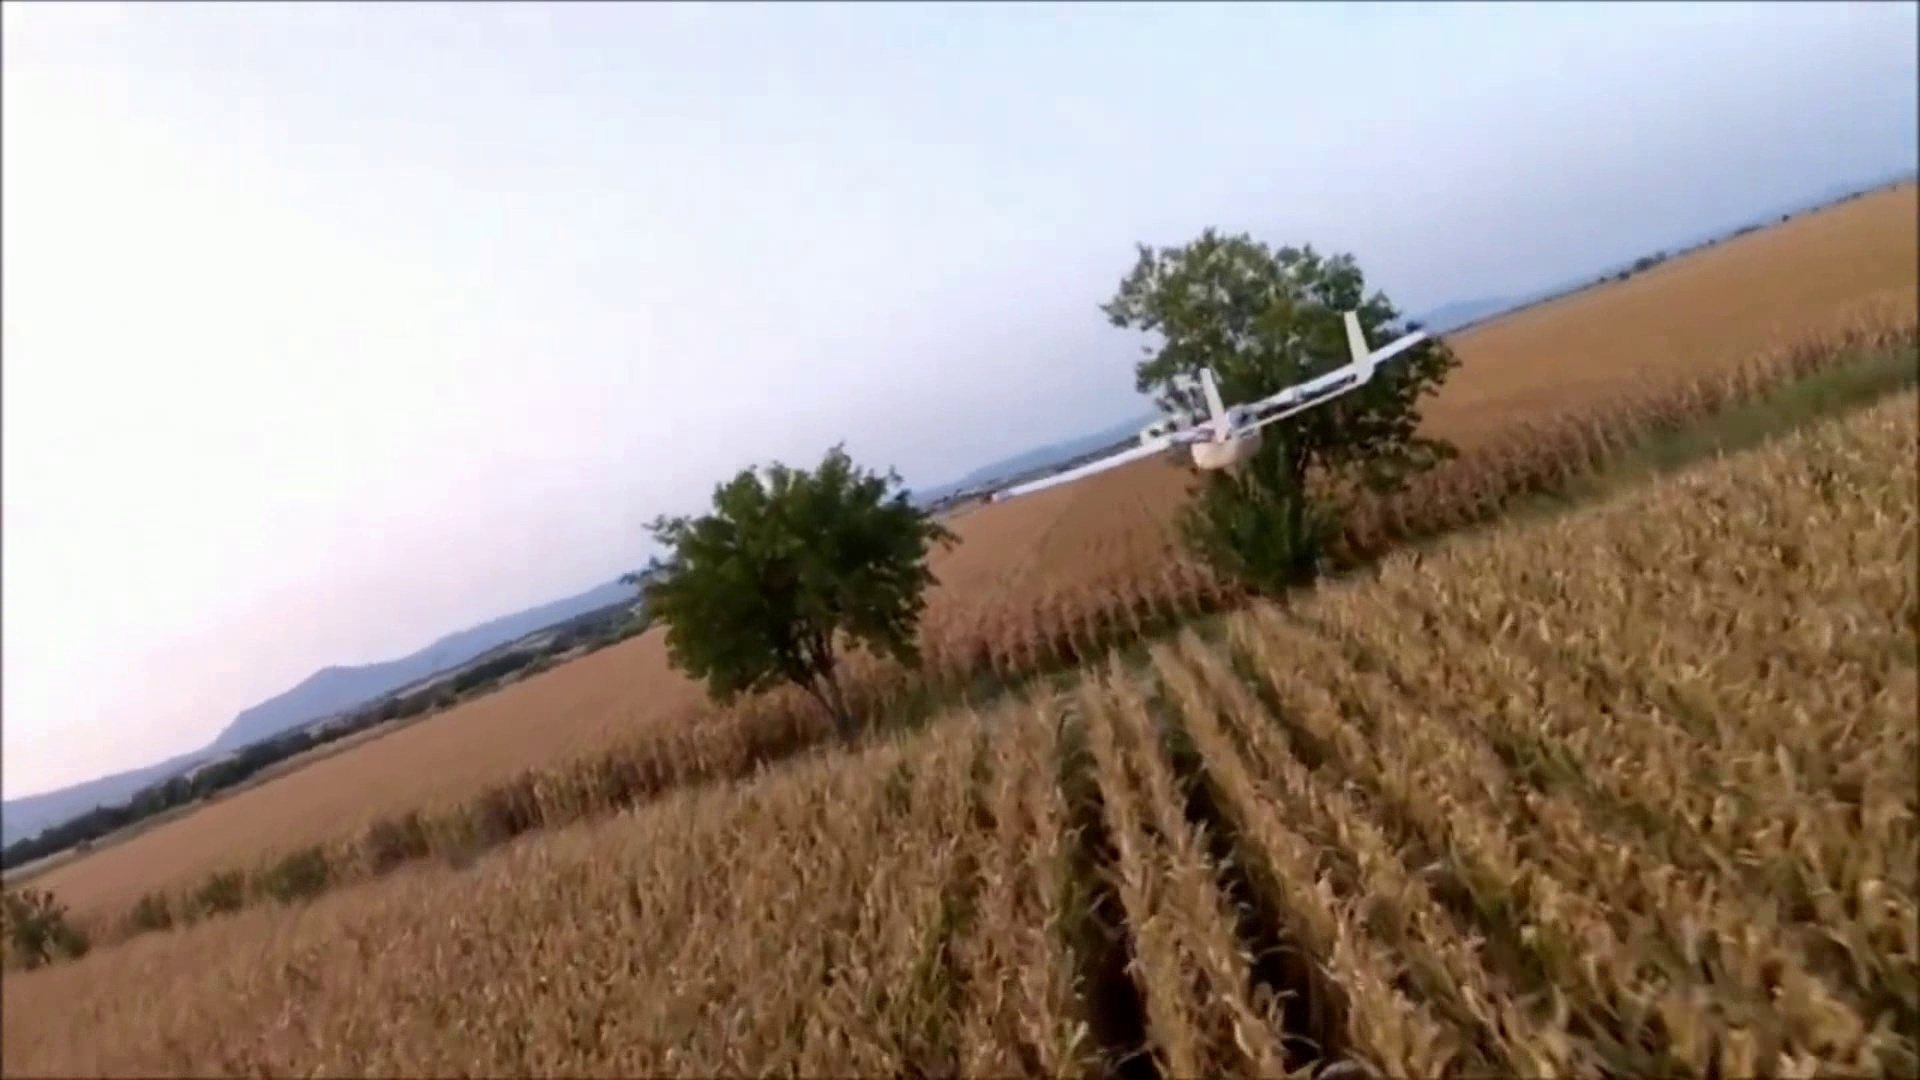airplane: (907, 303, 1462, 514)
